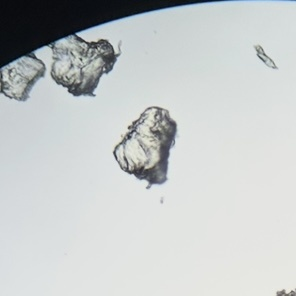microplastic: (113, 107, 178, 191), (46, 33, 122, 97), (1, 51, 46, 101), (254, 44, 277, 69), (276, 289, 292, 296)
